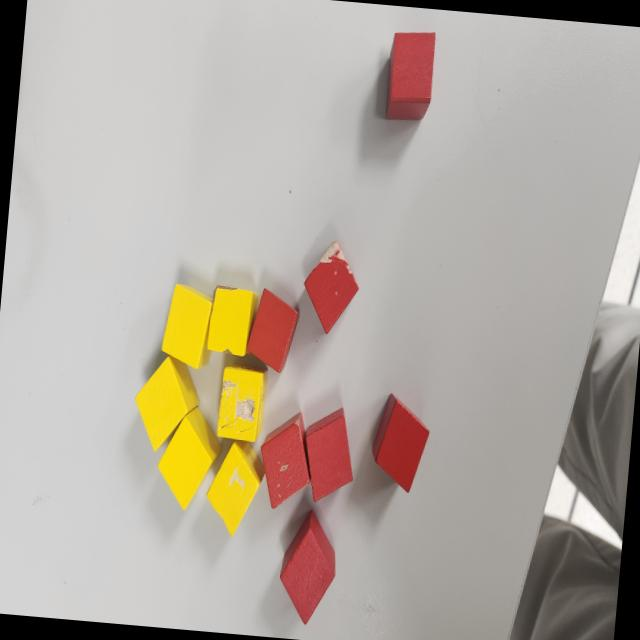broken: (299, 233, 364, 338), (254, 407, 318, 512), (202, 439, 264, 538), (204, 282, 260, 358), (215, 366, 268, 444)
red: (275, 507, 341, 627), (368, 391, 432, 496), (298, 402, 360, 506), (382, 28, 438, 125), (244, 286, 301, 376)
yellow: (152, 404, 224, 514), (130, 352, 203, 457), (158, 281, 216, 370)
